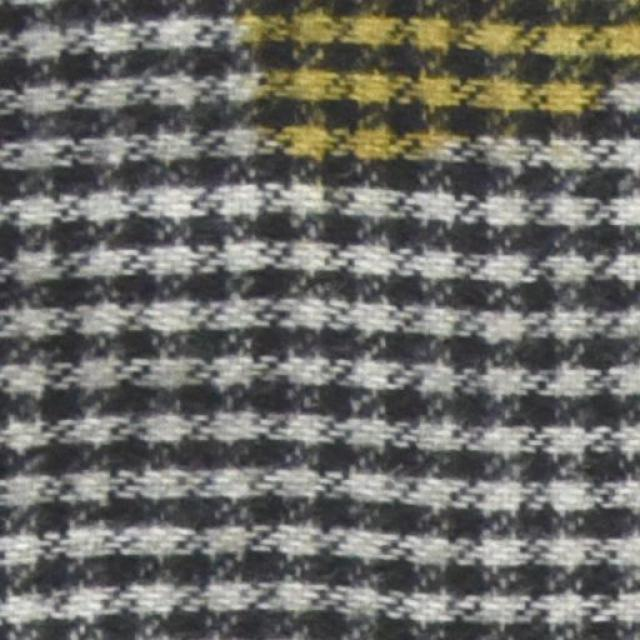Stain: (244, 1, 639, 205)
